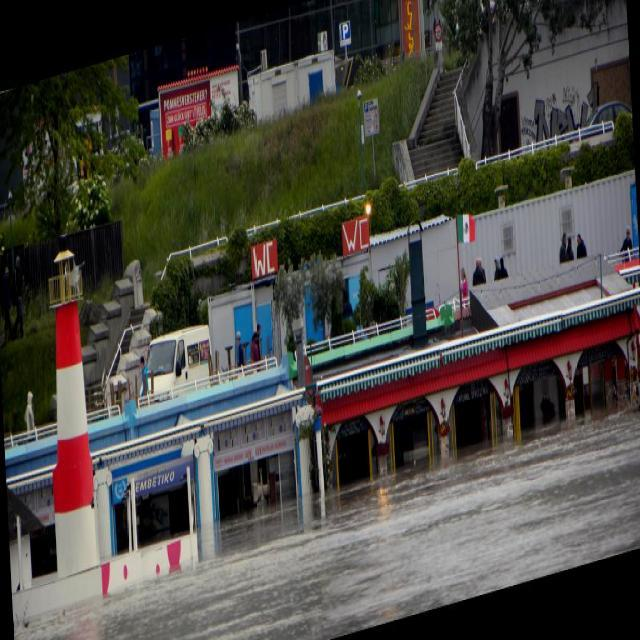flood: (11, 388, 640, 639)
